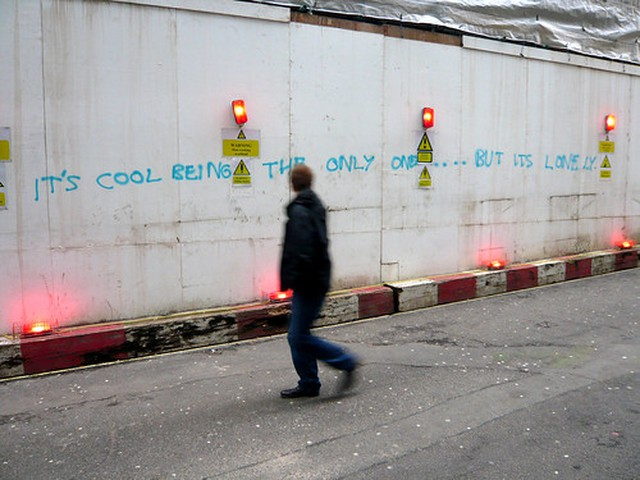Person: (280, 157, 366, 418)
